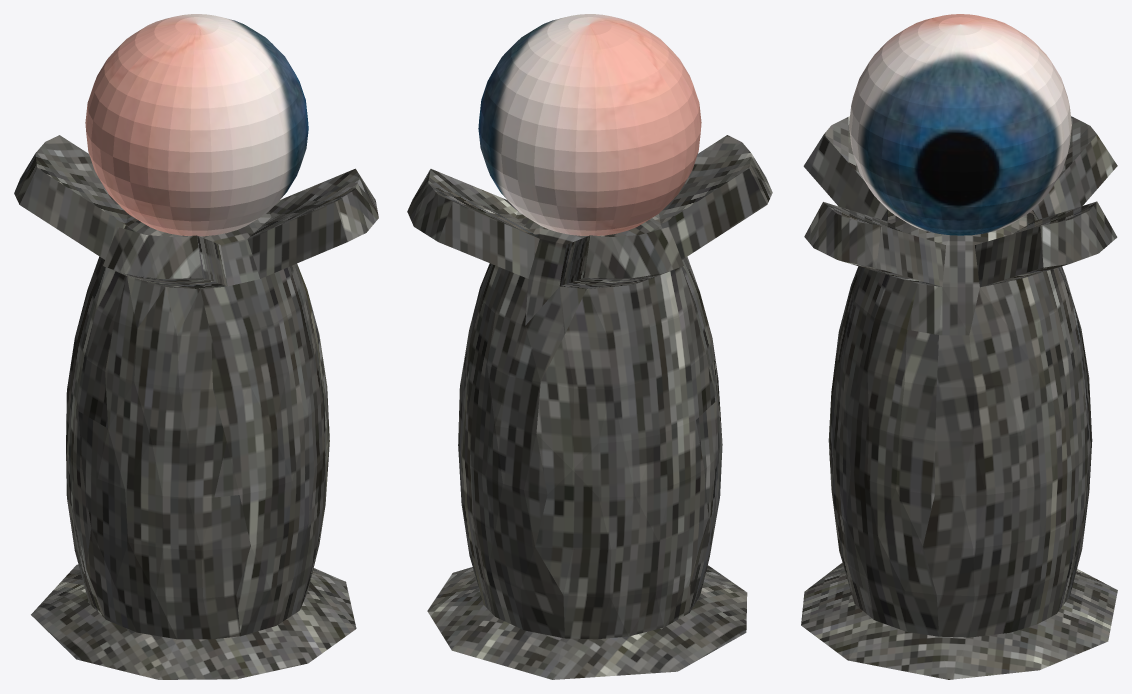
The model's file is LaserTurel.fbx.
3 views of the same model, side by side, from view 1: azimuth 30°, elevation 25°; view 2: azimuth 150°, elevation 25°; view 3: azimuth 270°, elevation 25° (orthographic).
Visible parts, largest first — view 1: Sphere.001; view 2: Sphere.001; view 3: Sphere.001.
Boxes of the visible parts, x1,y1,x2,y2 form: Sphere.001: (14, 14, 378, 679); Sphere.001: (407, 14, 772, 679); Sphere.001: (801, 14, 1117, 679).
Bounding box in the file's own units: 246 × 491 × 240.
